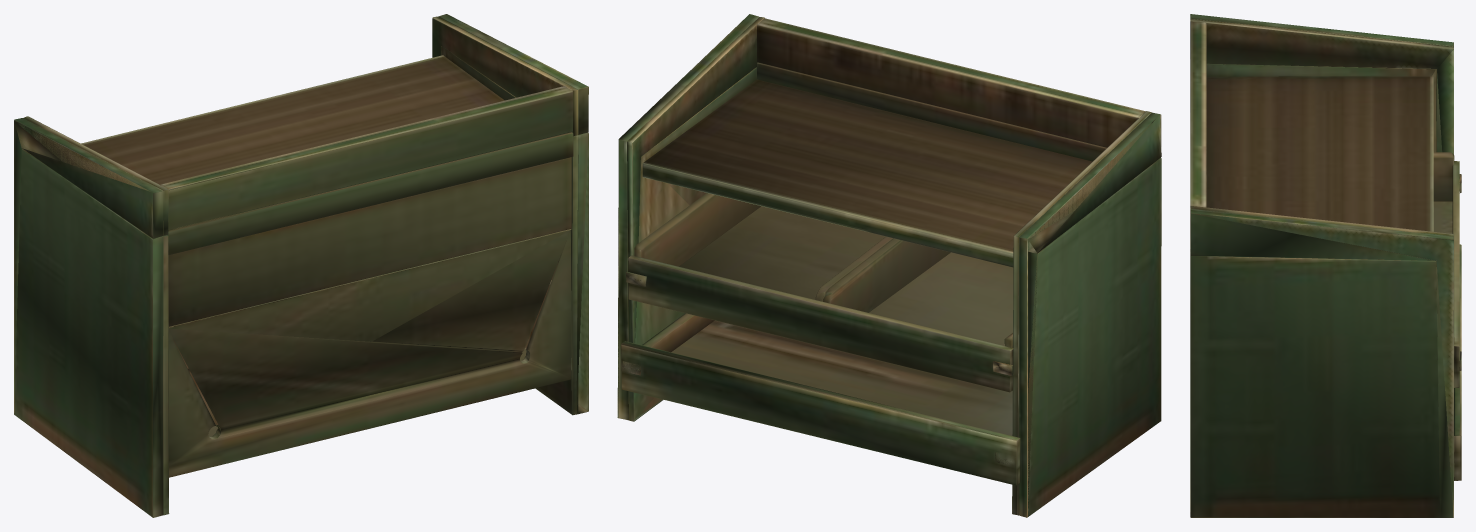
File: mall-produce-display-stand.glb
3 views of the same model, side by side, from view 1: azimuth 30°, elevation 25°; view 2: azimuth 150°, elevation 25°; view 3: azimuth 270°, elevation 25° (orthographic). The views are drawn at different scales.
Visible parts, largest first — view 1: produce-display-stand; view 2: produce-display-stand; view 3: produce-display-stand.
Boxes of the visible parts, x1,y1,x2,y2 form: produce-display-stand: [14, 14, 588, 517]; produce-display-stand: [617, 14, 1161, 517]; produce-display-stand: [1190, 14, 1461, 517].
Size of the model in its own units: 1.6 by 1.14 by 0.9191.
1 material, 1 textured.
